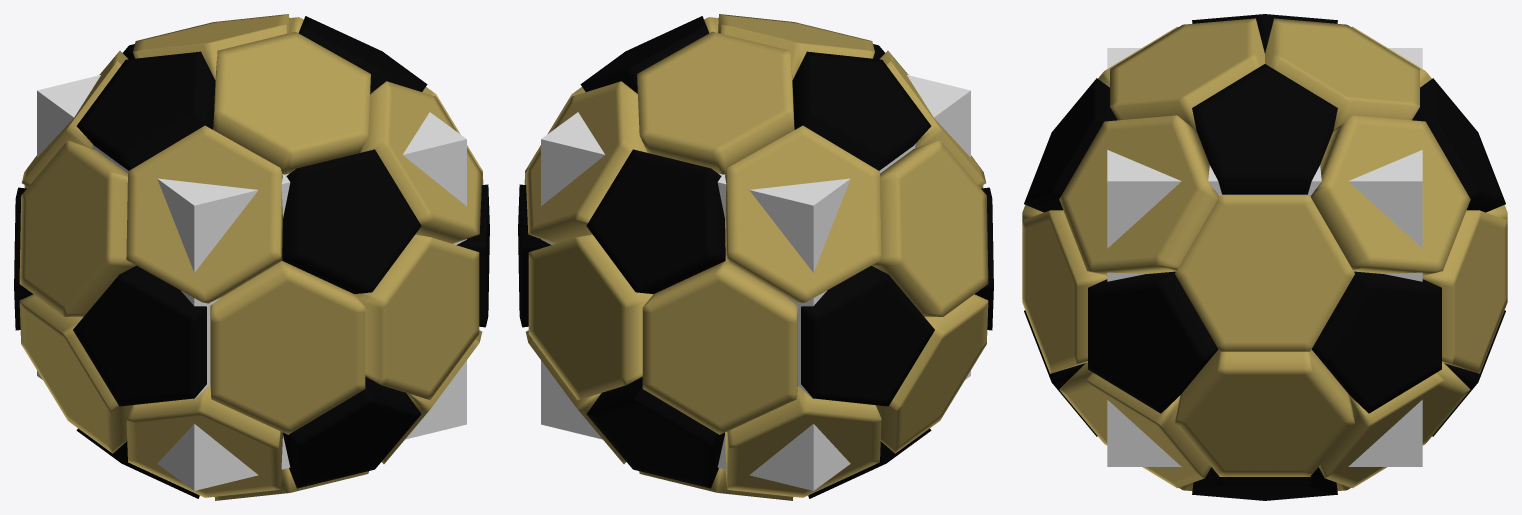
The model's file is DirtySoccerBall.gltf.
3 views of the same model, side by side, from view 1: azimuth 30°, elevation 25°; view 2: azimuth 150°, elevation 25°; view 3: azimuth 270°, elevation 25° (orthographic).
Visible parts, largest first — view 1: Solid.001, COL; view 2: Solid.001, COL; view 3: Solid.001, COL.
Part boxes in pixels (box(x1,y1,x2,y2)): Solid.001: box(14, 14, 489, 500); COL: box(37, 75, 466, 490); Solid.001: box(518, 14, 993, 500); COL: box(541, 75, 970, 490); Solid.001: box(1022, 14, 1507, 500); COL: box(1107, 48, 1422, 466).
Size of the model in its own units: 0.975 by 0.975 by 0.975.
